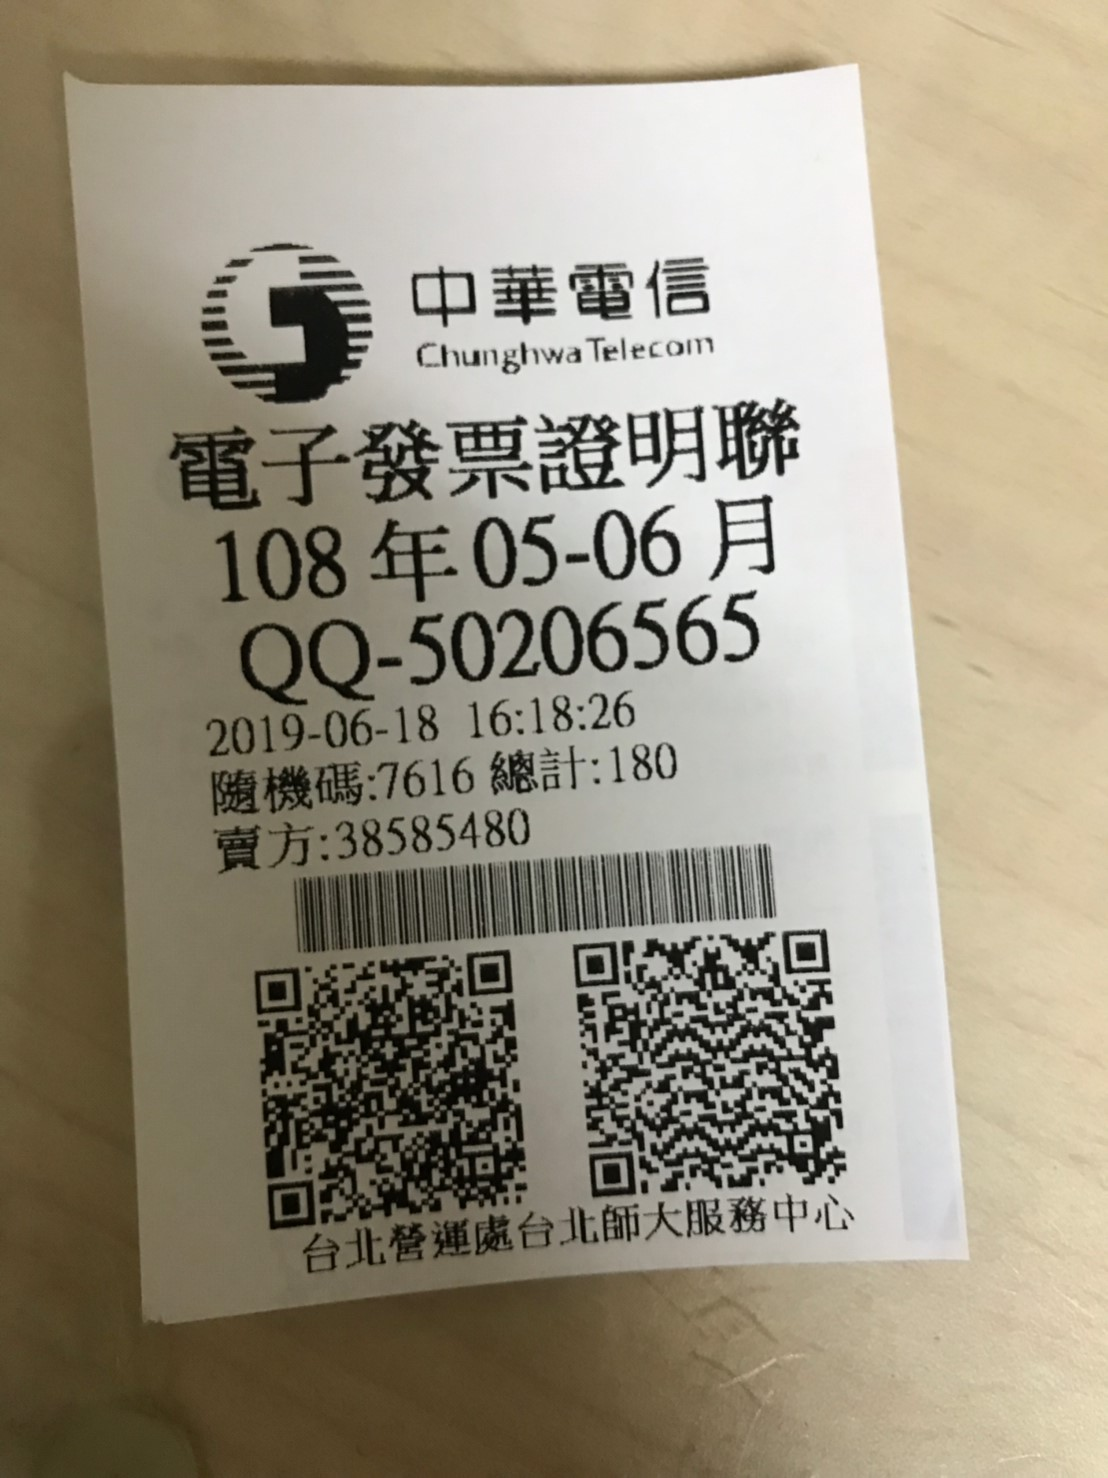Date_New: (213, 492, 794, 603)
Number_New: (404, 591, 765, 690)
